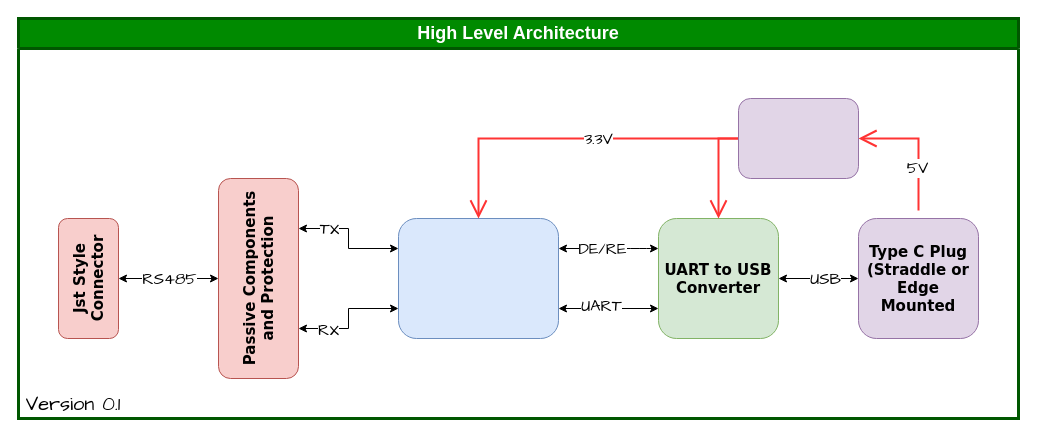
Image size: 1037x437. Some labels were removed from this diagram. Each missing label, with the box of its shape:
LDO: (738, 98, 858, 178)
ModBus Transciever: (398, 218, 558, 338)
